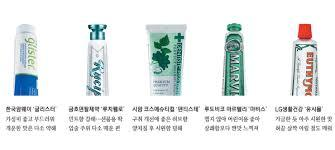toothpaste: (143, 22, 190, 100), (286, 22, 324, 97), (83, 21, 117, 98), (10, 22, 46, 94), (222, 20, 252, 99)
